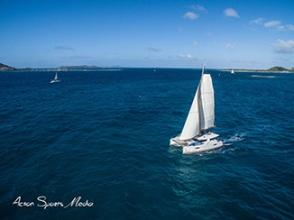fanchuan: (170, 71, 224, 153), (45, 68, 64, 84)
